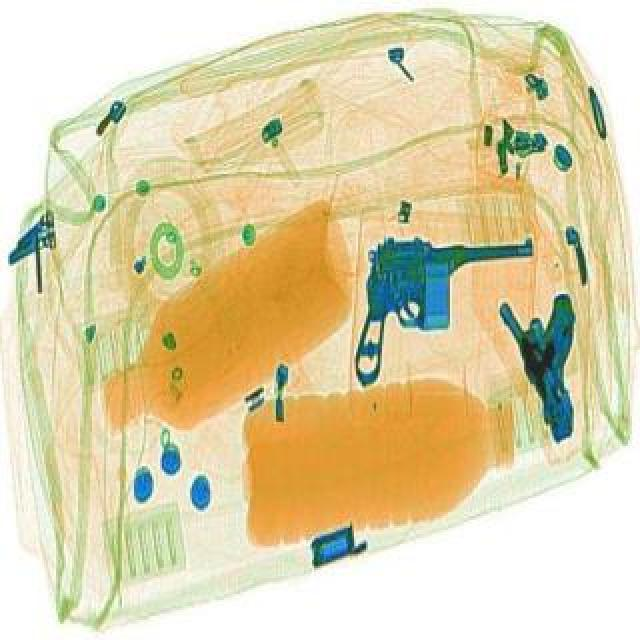gun: (350, 228, 542, 406), (472, 280, 640, 452)
